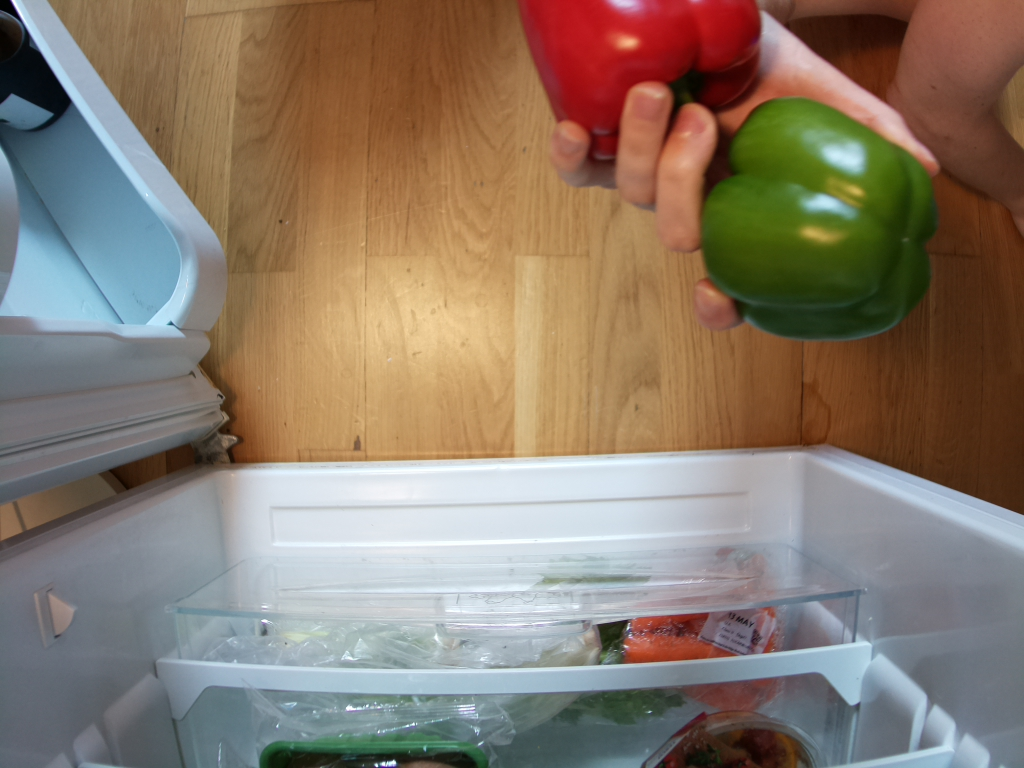pepper: (696, 95, 940, 341), (517, 1, 760, 160)
